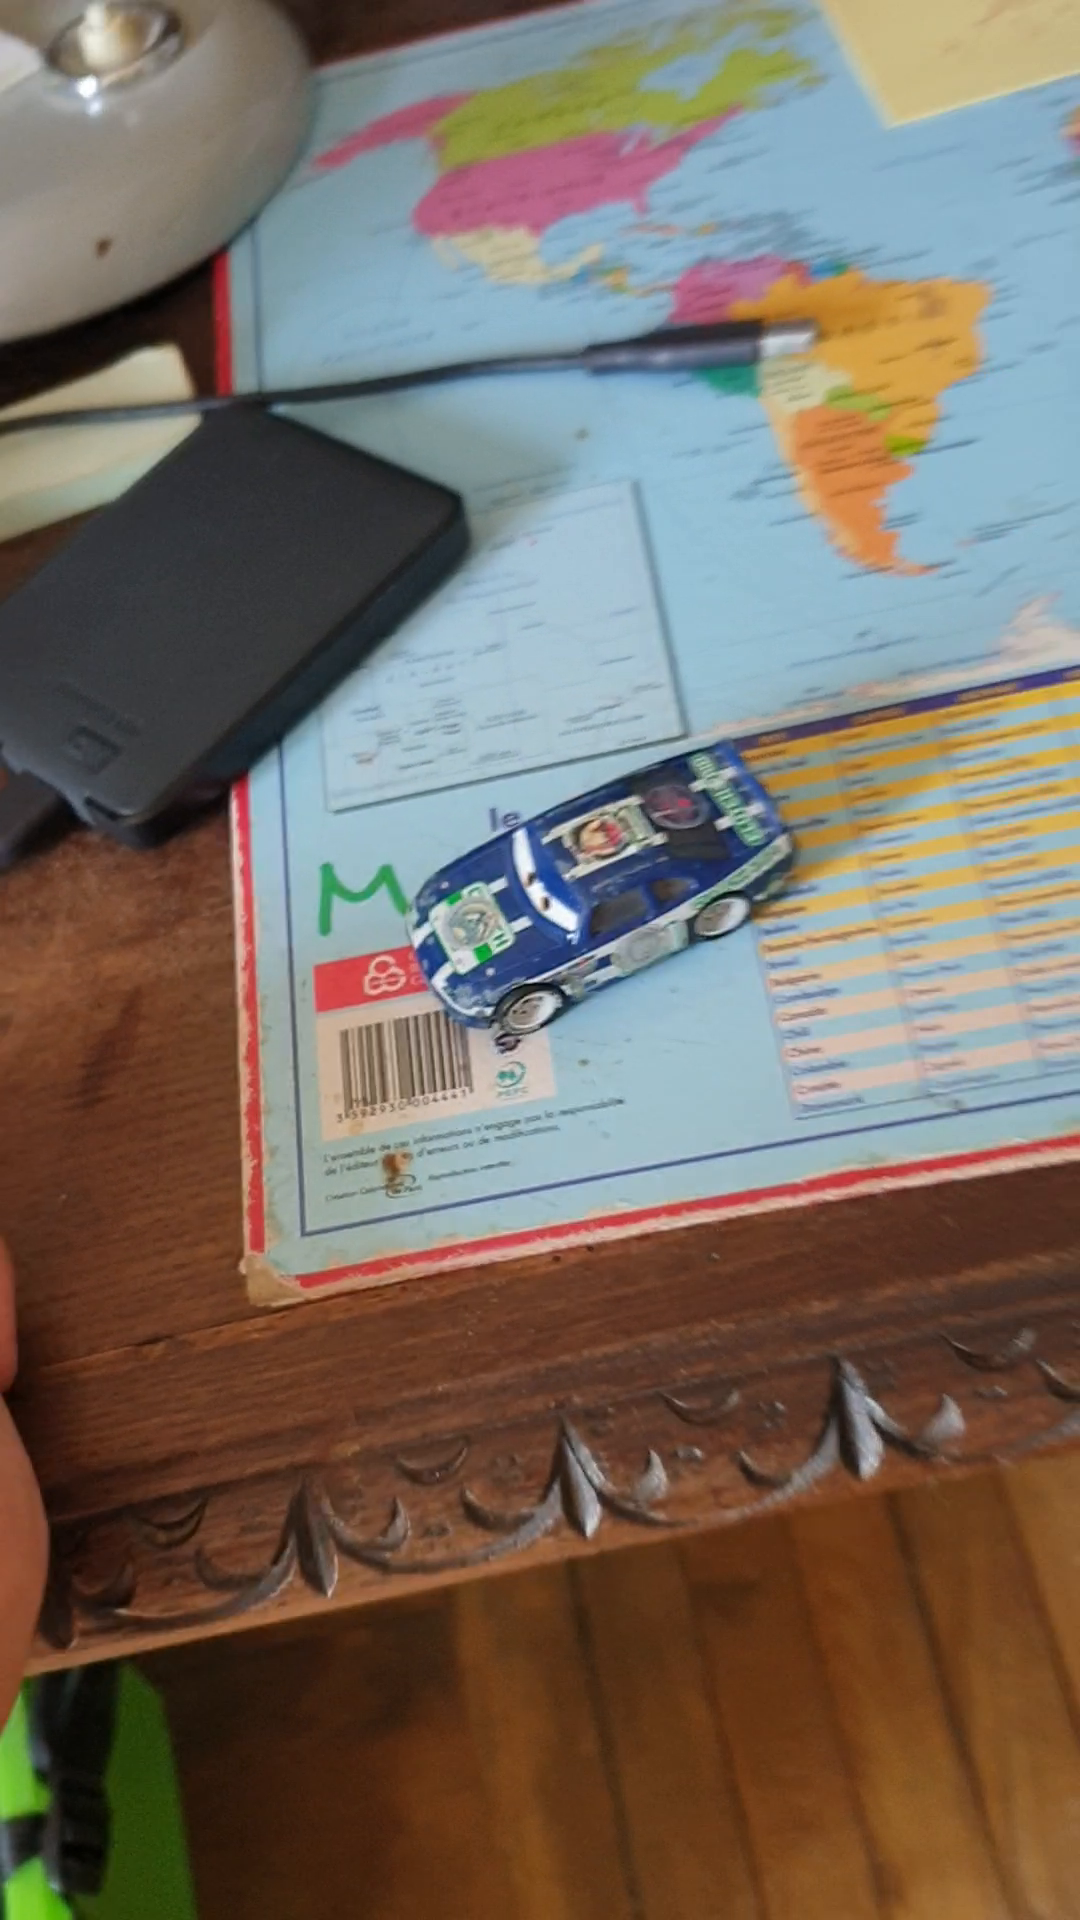cars: (411, 738, 798, 1033)
